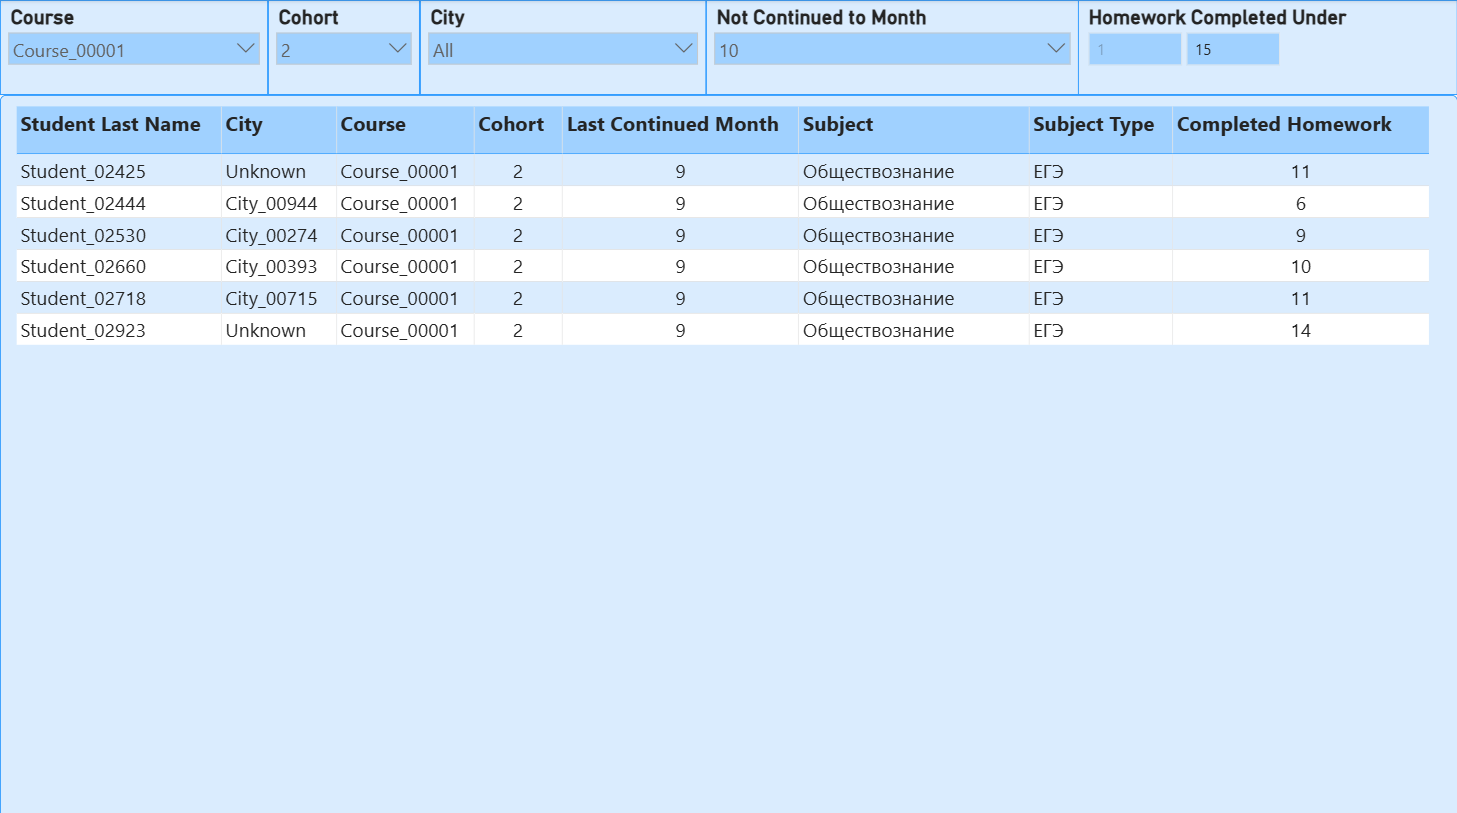

What the dashboard file says about the page in this screenshot:
{"tool":"powerbi","page":{"name":"Student Information","canvas":[1920,1080],"ordinal":1},"visuals":[{"type":"tableEx","fields":{"Values":["test_dataset.user_last_name","test_dataset.city_name","test_dataset.course_name","test_dataset.wave","test_dataset.user_course_month_count","test_dataset.subject_name","test_dataset.subject_type","test_dataset.homework_done_on_course_by_user"]},"box":[0,125.1,1920.3,956.2],"z":0},{"type":"slicer","fields":{"Values":["test_dataset.course_name"]},"box":[0,0,353,125.1],"z":1000},{"type":"slicer","fields":{"Values":["test_dataset.wave"]},"box":[353,0,200.2,125.1],"z":2000},{"type":"slicer","fields":{"Values":["test_dataset.city_name"]},"box":[553.2,0,376.7,125.1],"z":3000},{"type":"slicer","fields":{"Values":["test_dataset.month_not_proceeded"]},"box":[929.3,0,490.6,125],"z":4000},{"type":"slicer","fields":{"Values":["test_dataset.hw_done_less_than"]},"box":[1420,0,500,125],"z":5000}]}

Visuals, with their boxes in screenshot pixels (x1, y1, x2, y2), scaled from the page's 1920x1080 canvas onto the 1457x813 screenshot:
tableEx - test_dataset.user_last_name x test_dataset.city_name: 0,94,1456,812
slicer - test_dataset.course_name: 0,0,268,94
slicer - test_dataset.wave: 268,0,420,94
slicer - test_dataset.city_name: 420,0,706,94
slicer - test_dataset.month_not_proceeded: 705,0,1077,94
slicer - test_dataset.hw_done_less_than: 1078,0,1456,94
